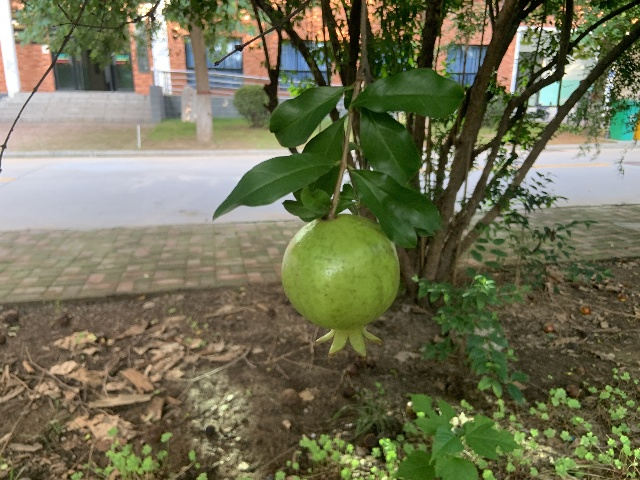mid-growth: (280, 213, 400, 359)
